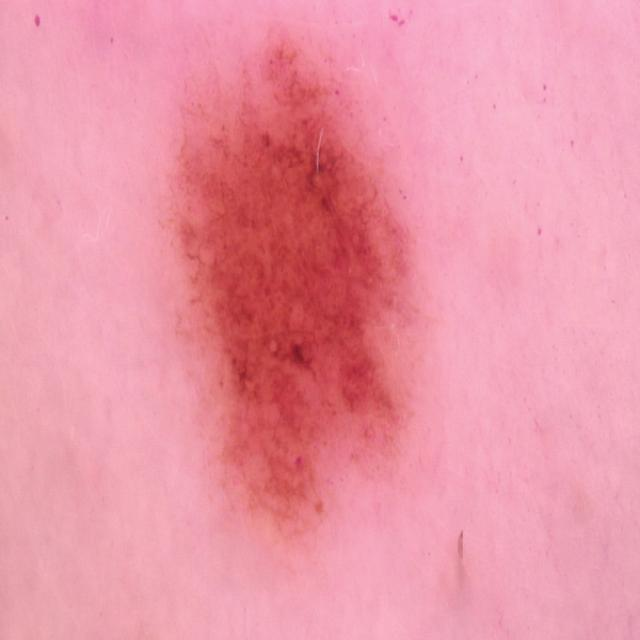NV: (158, 24, 432, 552)
